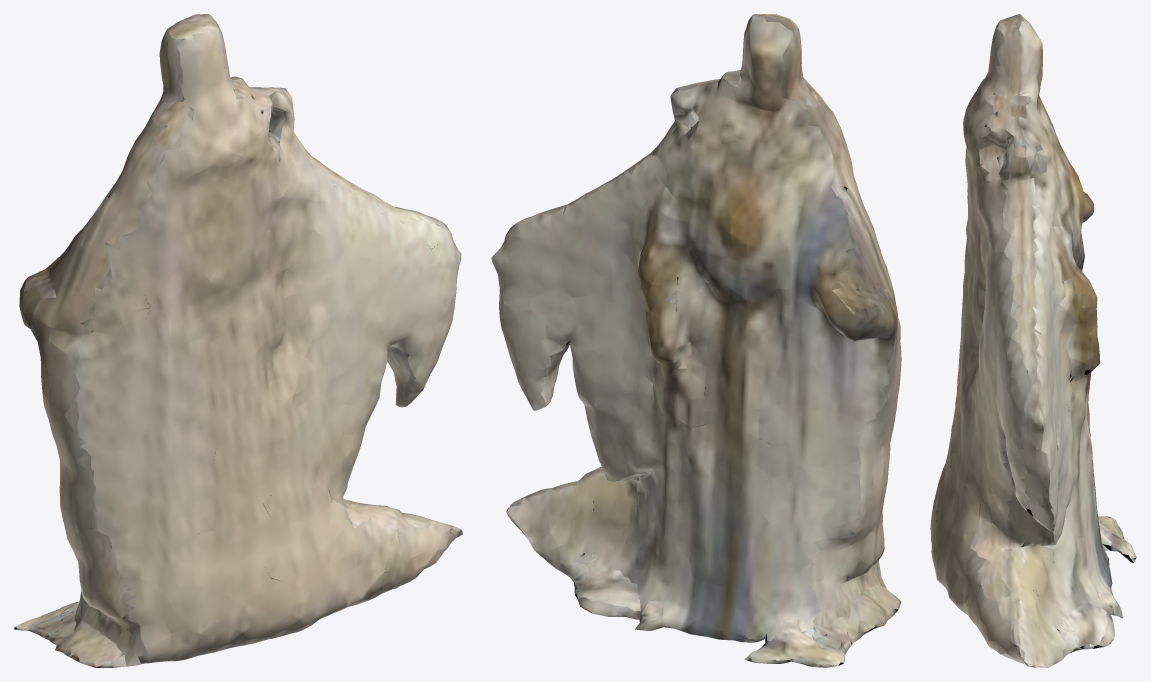
The picture shows the model from 3 angles, left to right: view 1: azimuth 30°, elevation 25°; view 2: azimuth 150°, elevation 25°; view 3: azimuth 270°, elevation 25°; orthographic projection. The views are drawn at different scales.
Visible parts, largest first — view 1: world; view 2: world; view 3: world.
Part boxes in pixels (x1,y1,x2,y2): world: (14,14,462,667); world: (491,14,901,667); world: (930,14,1136,667).
Size of the model in its own units: 0.6526 by 0.9073 by 0.3012.
1 material, 1 textured.
